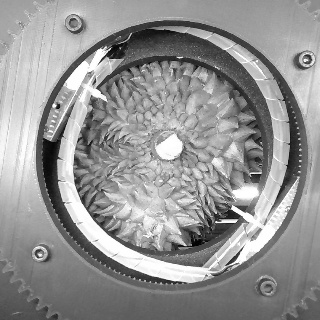base: (146, 125, 187, 164)
end: (154, 131, 183, 160)
